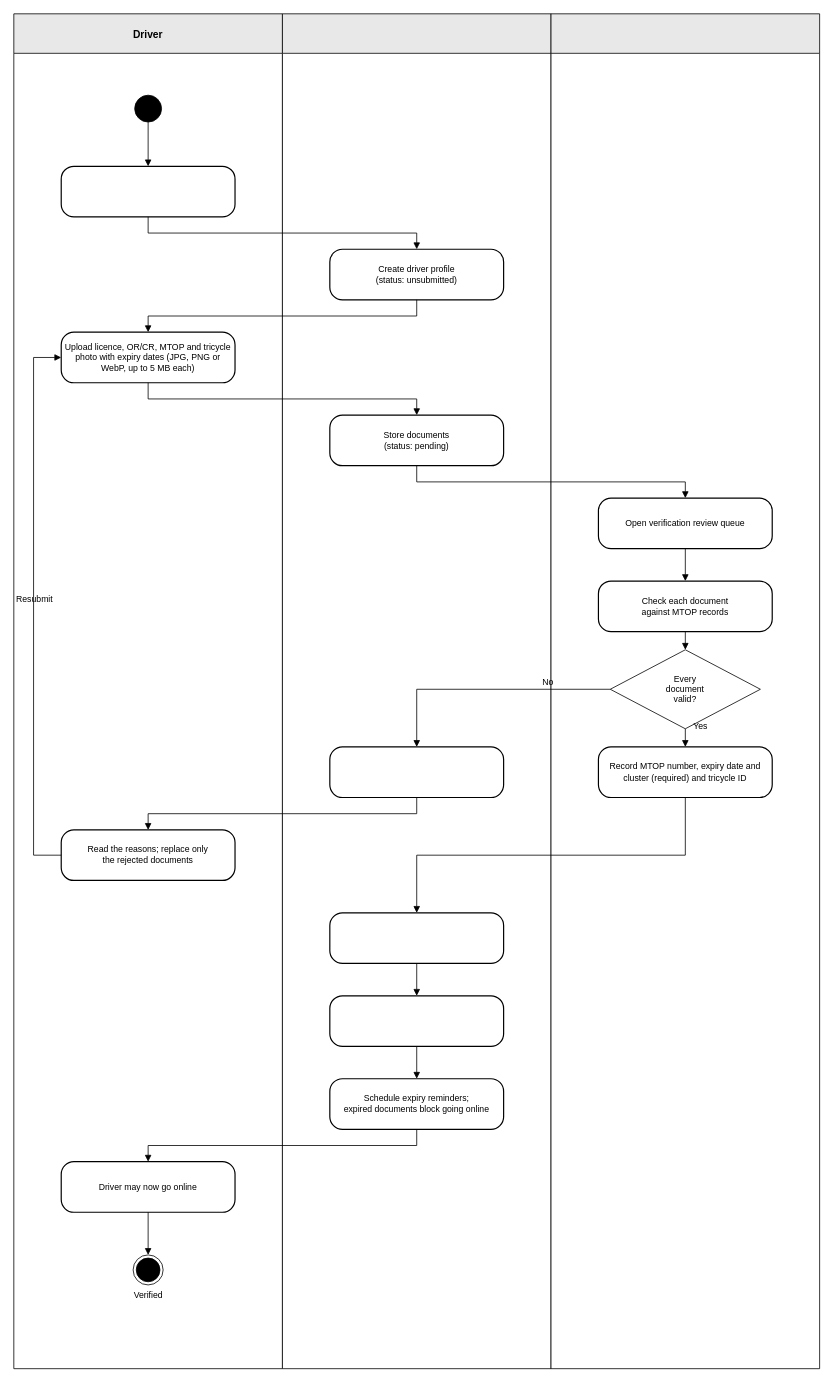
Image size: 833x1383. Some labels were removed from this diagram. The shapes that lost their labels are listed below. From the top down, each one's box as (x1, y1, x2, y2) in pixels, then its label:
(60, 165, 235, 217): Register account (role: driver)
(282, 13, 551, 1369): System
(550, 13, 820, 1369): PSO Supervisor
(329, 746, 504, 798): Reject the document(s) with a reason; driver notified (in-app, push, email)
(329, 912, 504, 964): Set driver and tricycle status: approved
(329, 995, 504, 1047): Notify driver (in-app, push and email)
